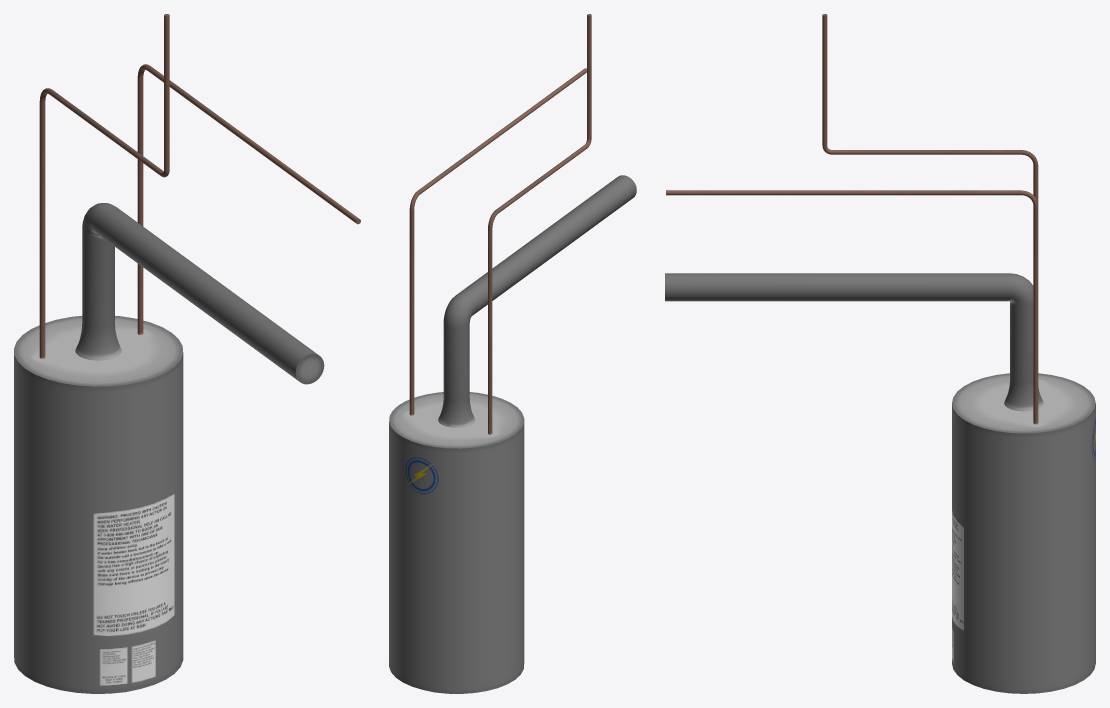
The model's file is WaterHeater.fbx.
The picture shows the model from 3 angles, left to right: view 1: azimuth 30°, elevation 25°; view 2: azimuth 150°, elevation 25°; view 3: azimuth 270°, elevation 25°; orthographic projection. The views are drawn at different scales.
Parts seen in each view (by area): view 1: WaterHeater; view 2: WaterHeater; view 3: WaterHeater.
Part boxes in pixels (left/top/right/bottom): WaterHeater: left=14, top=14, right=360, bottom=693; WaterHeater: left=389, top=14, right=636, bottom=693; WaterHeater: left=665, top=14, right=1095, bottom=693.
Size of the model in its own units: 0.6 by 1.8 by 2.89.
